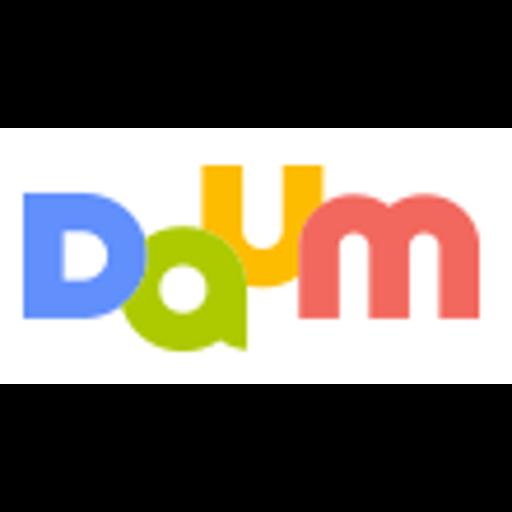Daum: (0, 128, 512, 384)
